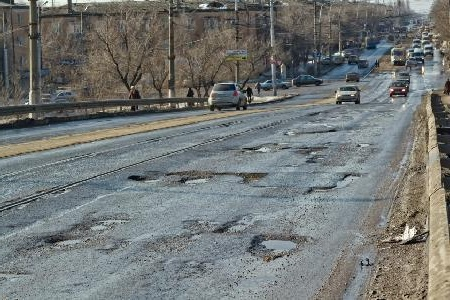pothole: (41, 214, 130, 245), (246, 232, 309, 262), (302, 170, 363, 195), (212, 218, 250, 236), (236, 140, 275, 155), (166, 167, 220, 176), (238, 169, 270, 184), (178, 173, 215, 184), (298, 143, 328, 156), (126, 171, 149, 182), (355, 140, 372, 148), (281, 129, 296, 137)
